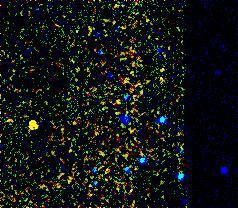star: (20, 112, 50, 142)
